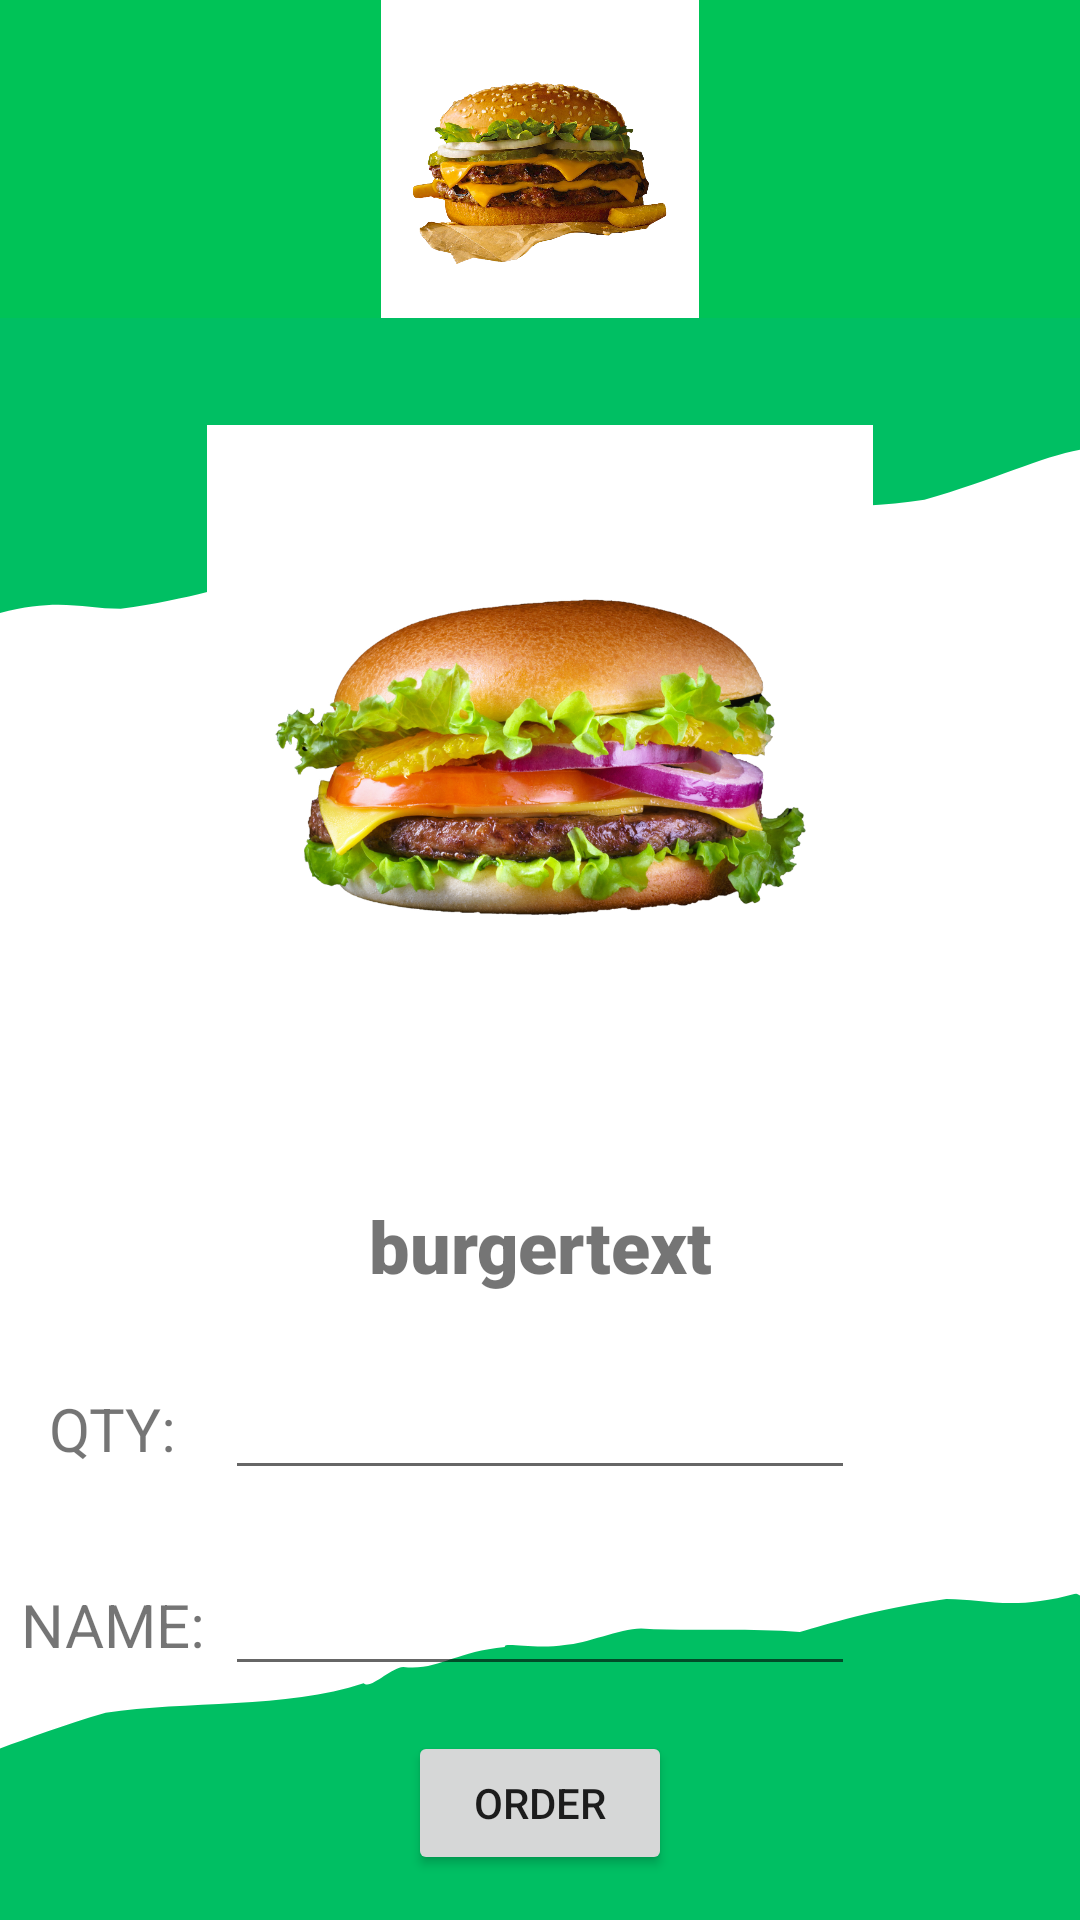

Screen size 1080 × 1920. Icon name, then its box in pixels as [x1, y1, x2, y2]:
doublepatty: [381, 0, 699, 318]
